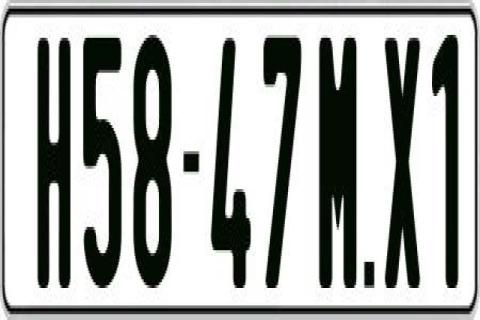0: (210, 29, 255, 285), (82, 35, 126, 285), (131, 29, 172, 285), (263, 32, 303, 294), (429, 29, 457, 294)
H: (34, 35, 70, 285)
M: (316, 38, 358, 300)
X: (384, 32, 419, 296)
